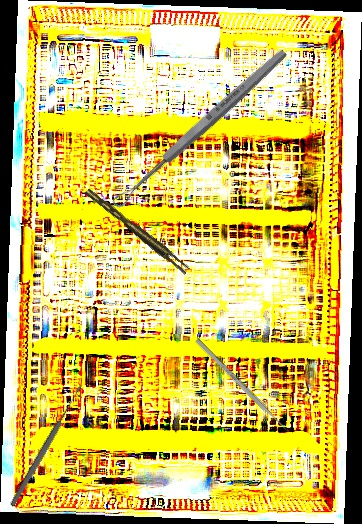Pusher: (194, 338, 292, 435)
Surgical Spoon: (109, 46, 290, 211), (8, 383, 85, 509)
Tissue Forceps: (84, 183, 191, 278)
